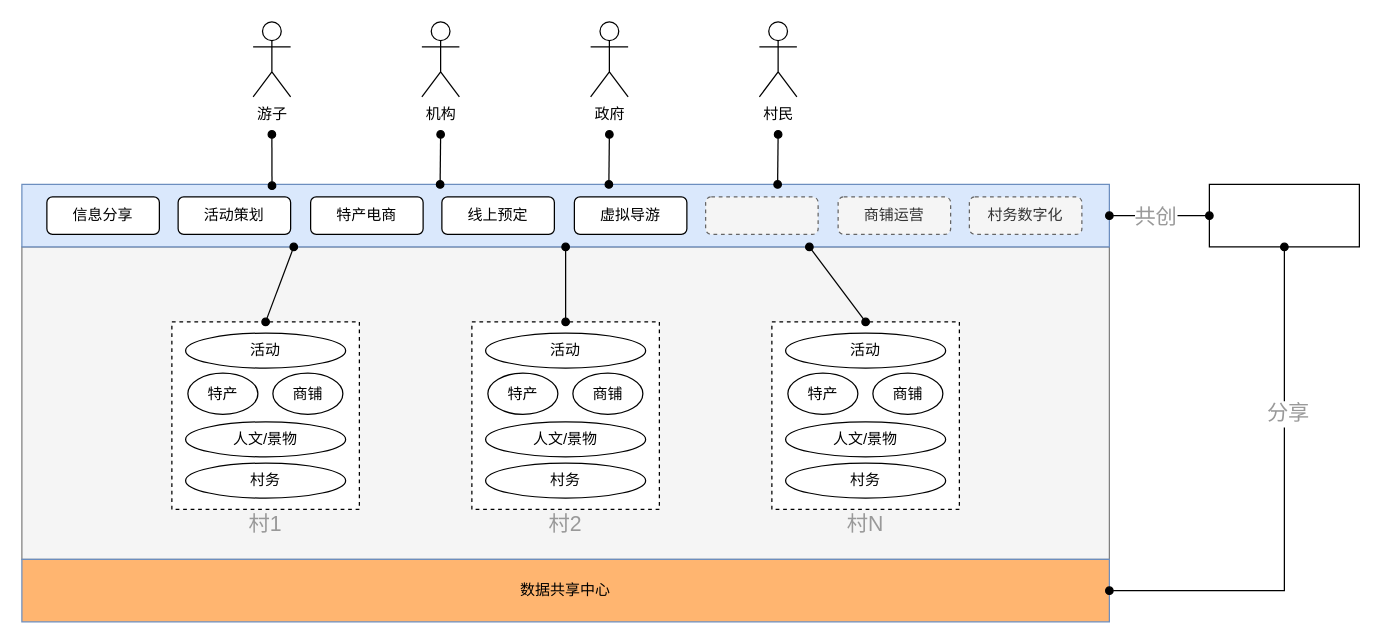
The diagram is 1381 pixels wide and 644 high, and some of its shapes have lost their labels. Each missing label, with the centre of its shape:
合作伙伴: the point at 1283,215
村庄运营: the point at 761,215
